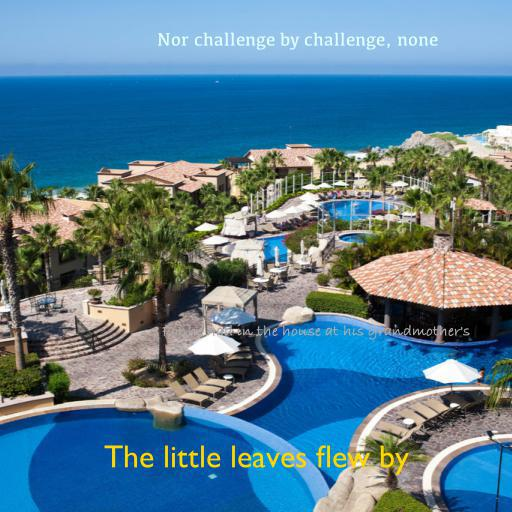Bradley Hand: (162, 323, 470, 340)
Gill Sans: (103, 445, 409, 475)
Kefa: (156, 32, 438, 50)
